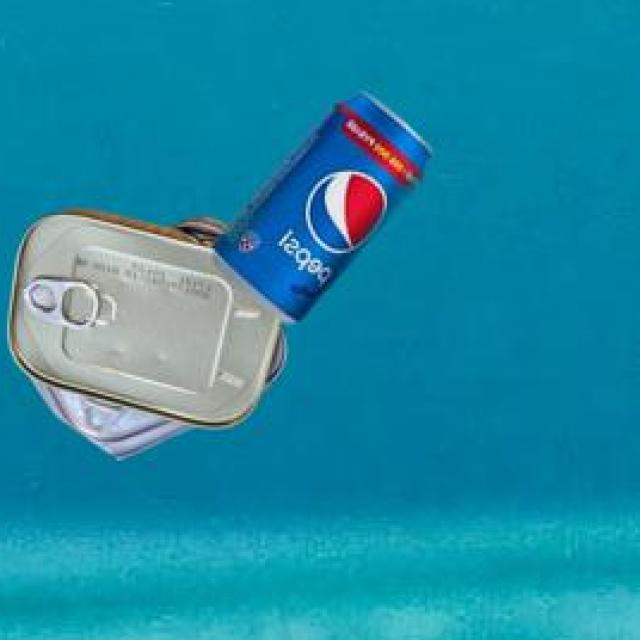logam: (6, 214, 283, 462), (209, 97, 426, 326)
